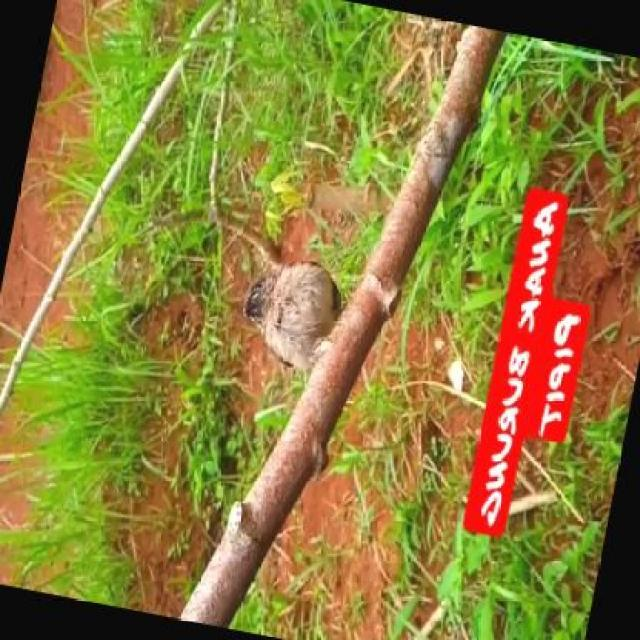Bird: (231, 257, 351, 380)
